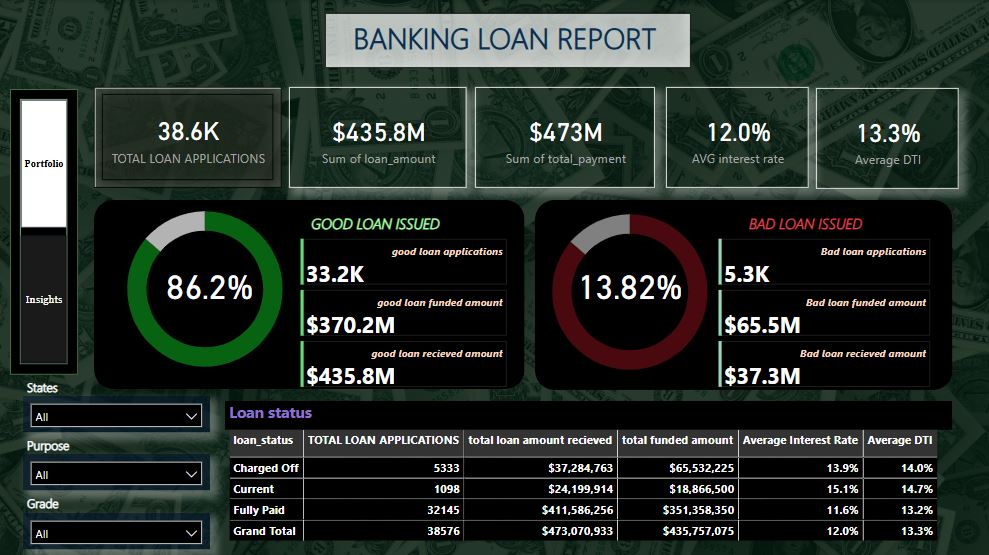

This screenshot's page, from the dashboard's own definition file:
{"tool":"powerbi","page":{"name":"Portfolio","canvas":[1280,720],"ordinal":0},"visuals":[{"type":"shape","box":[123.3,112,242.4,130.4],"z":0},{"type":"card","fields":{"Values":["Sum(financial_loan.loan_amount)"]},"box":[375.6,112,229.4,130.4],"z":0,"group":"g1"},{"type":"card","fields":{"Values":["financial_loan.AVG DTI"]},"box":[1055.4,113.4,183.9,130.4],"z":0,"group":"g2"},{"type":"textbox","box":[422.4,17,472,70.9],"z":1000},{"type":"card","fields":{"Values":["Sum(financial_loan.total_payment)"]},"box":[615.2,112,232.4,130.4],"z":1000,"group":"g1"},{"type":"card","fields":{"Values":["date table.AVG interest rate"]},"box":[861.7,112,184.3,130.4],"z":1000,"group":"g2"},{"type":"card","fields":{"Values":["financial_loan.TOTAL LOAN APPLICATIONS"]},"box":[134.6,121.9,221.1,110.6],"z":2000},{"type":"group","id":"g1","title":"Group 1","box":[375.6,112,472,130.4],"z":3000},{"type":"group","id":"g2","title":"Group 2","box":[861.7,112,377,131.8],"z":4000},{"type":"shape","box":[123.3,258,555.6,243.8],"z":5000},{"type":"shape","box":[693.1,258,538.6,245.2],"z":6000},{"type":"donutChart","fields":{"Y":["financial_loan.TOTAL LOAN APPLICATIONS"],"Category":["financial_loan.Good v/s Bad loans"]},"box":[103.5,242.4,327.4,260.8],"z":7000},{"type":"card","fields":{"Values":["financial_loan.Good Loan %"]},"box":[191.3,347.2,164.4,59.5],"z":8000},{"type":"textbox","box":[398.3,270.7,206.9,36.9],"z":9000},{"type":"cardVisual","fields":{"Data":["financial_loan.good loan applications","financial_loan.good loan funded amount","financial_loan.good good loan recieved amount"]},"box":[388.3,307.6,270.7,194.2],"z":10000},{"type":"donutChart","fields":{"Y":["financial_loan.TOTAL LOAN APPLICATIONS"],"Category":["financial_loan.Good v/s Bad loans"]},"box":[652,246.6,327.4,260.8],"z":11000},{"type":"card","fields":{"Values":["financial_loan.Bad Loan %"]},"box":[737,347.2,157.3,59.5],"z":12000},{"type":"cardVisual","fields":{"Data":["financial_loan.Bad loan applications","financial_loan.Bad loan funded amount","financial_loan.Bad loan recieved amount"]},"box":[928.3,307.6,277.8,194.2],"z":13000},{"type":"textbox","box":[963.8,270.7,206.9,36.9],"z":14000},{"type":"tableEx","title":"Loan status","fields":{"Values":["financial_loan.loan_status","financial_loan.TOTAL LOAN APPLICATIONS","financial_loan.total loan amount recieved","financial_loan.total funded amount","financial_loan.Average Interest Rate","financial_loan.Average DTI"]},"box":[293.4,517.3,938.3,185.7],"z":15000},{"type":"group","id":"g3","title":"Group 3","box":[32.6,483.3,240.9,225.4],"z":16000},{"type":"shape","box":[15.6,114.8,87.9,368.5],"z":17000},{"type":"slicer","fields":{"Values":["financial_loan.loan_status","financial_loan.address_state"]},"box":[32.6,510.6,240.9,47.4],"z":17000,"group":"g3"},{"type":"pageNavigator","box":[28.3,127.6,60.9,341.6],"z":18000},{"type":"textbox","box":[32.6,483.3,94.1,37.3],"z":18000,"group":"g3"},{"type":"slicer","fields":{"Values":["financial_loan.purpose"]},"box":[32.6,585.2,240.9,47.4],"z":19000,"group":"g3"},{"type":"slicer","fields":{"Values":["financial_loan.grade"]},"box":[32.6,661.3,240.9,47.4],"z":20000,"group":"g3"},{"type":"textbox","box":[32.6,557.9,120.5,37.3],"z":21000,"group":"g3"},{"type":"textbox","box":[32.6,632.6,94.1,37.3],"z":22000,"group":"g3"}]}

Visuals, with their boxes in screenshot pixels (x1, y1, x2, y2), scaled from the page's 1280x720 canvas onto the 989x555 screenshot:
shape: 95/86/283/187
card - Sum(financial_loan.loan_amount): 290/86/467/187
card - financial_loan.AVG DTI: 815/87/958/188
textbox: 326/13/691/68
card - Sum(financial_loan.total_payment): 475/86/655/187
card - date table.AVG interest rate: 666/86/808/187
card - financial_loan.TOTAL LOAN APPLICATIONS: 104/94/275/179
"Group 1" group: 290/86/655/187
"Group 2" group: 666/86/957/188
shape: 95/199/525/387
shape: 536/199/952/388
donutChart - financial_loan.TOTAL LOAN APPLICATIONS x financial_loan.Good v/s Bad loans: 80/187/333/388
card - financial_loan.Good Loan %: 148/268/275/313
textbox: 308/209/468/237
cardVisual - financial_loan.good loan applications x financial_loan.good loan funded amount: 300/237/509/387
donutChart - financial_loan.TOTAL LOAN APPLICATIONS x financial_loan.Good v/s Bad loans: 504/190/757/391
card - financial_loan.Bad Loan %: 569/268/691/313
cardVisual - financial_loan.Bad loan applications x financial_loan.Bad loan funded amount: 717/237/932/387
textbox: 745/209/905/237
"Loan status" tableEx: 227/399/952/542
"Group 3" group: 25/373/211/546
shape: 12/88/80/373
slicer - financial_loan.loan_status x financial_loan.address_state: 25/394/211/430
pageNavigator: 22/98/69/362
textbox: 25/373/98/401
slicer - financial_loan.purpose: 25/451/211/488
slicer - financial_loan.grade: 25/510/211/546
textbox: 25/430/118/459
textbox: 25/488/98/516
